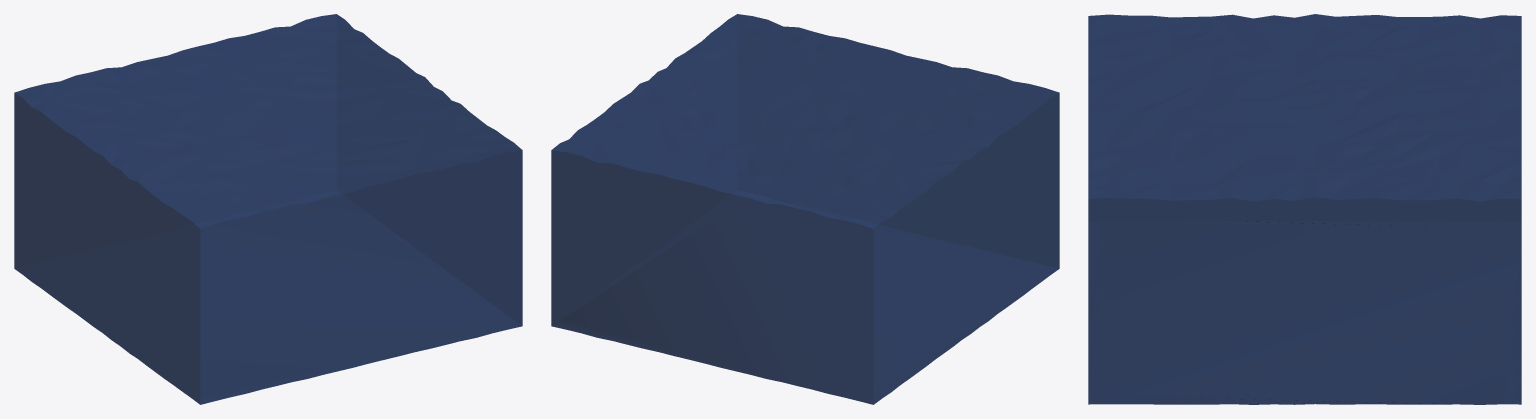
The model's file is water_dioarama.FBX.
The picture shows the model from 3 angles, left to right: view 1: azimuth 30°, elevation 25°; view 2: azimuth 150°, elevation 25°; view 3: azimuth 270°, elevation 25°; orthographic projection. The views are drawn at different scales.
Parts seen in each view (by area): view 1: water_diorama; view 2: water_diorama; view 3: water_diorama.
Part boxes in pixels (x1=…): water_diorama: x1=14, y1=14, x2=522, y2=404; water_diorama: x1=551, y1=14, x2=1059, y2=404; water_diorama: x1=1088, y1=14, x2=1521, y2=404.
Bounding box in the file's own units: 3556 × 1891 × 3556.
